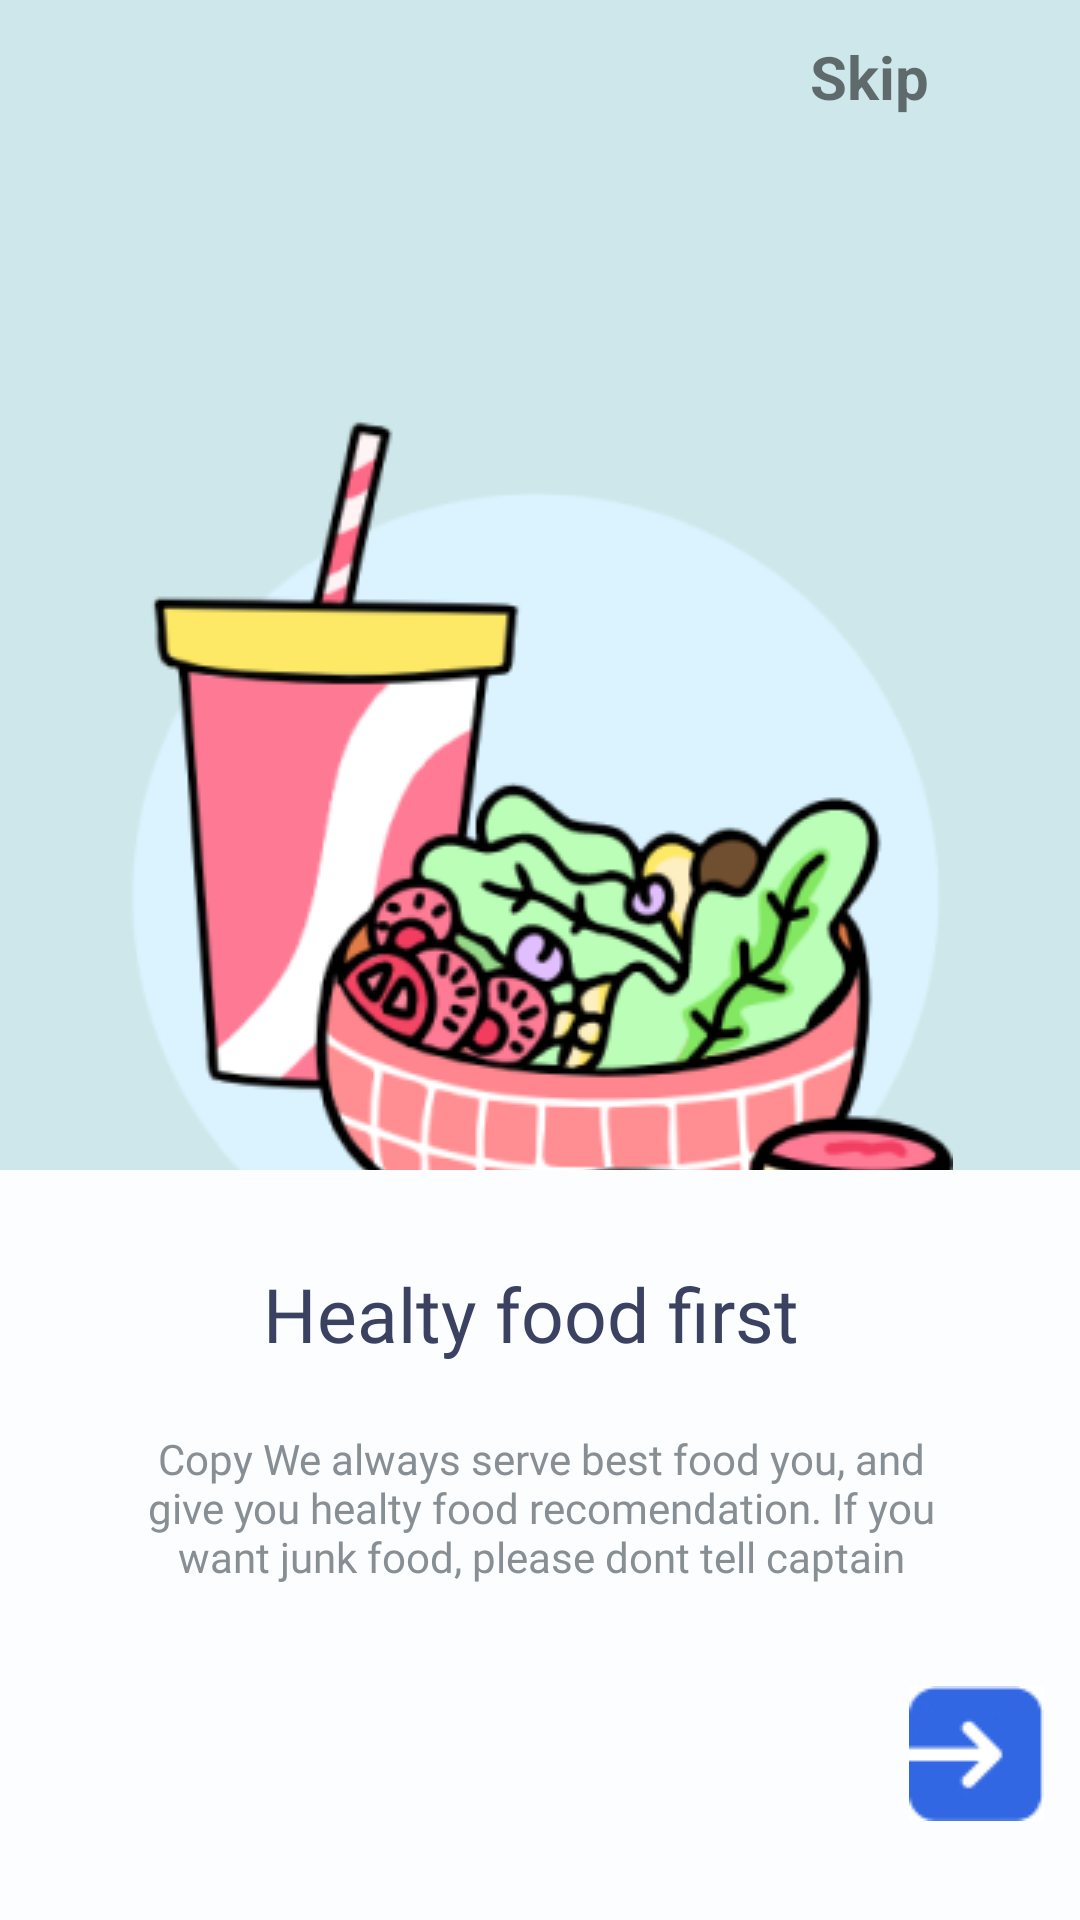

Icon click points for this 1080x1920 phone screenshot, format (x=x, y=y):
next: (x=975, y=1753)
